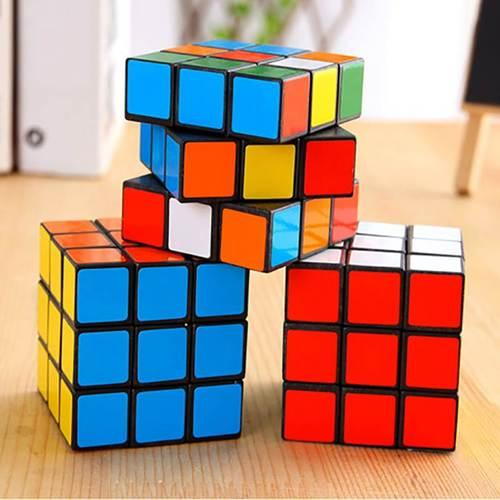cube: (98, 23, 383, 282), (24, 202, 267, 454), (266, 201, 479, 473)
